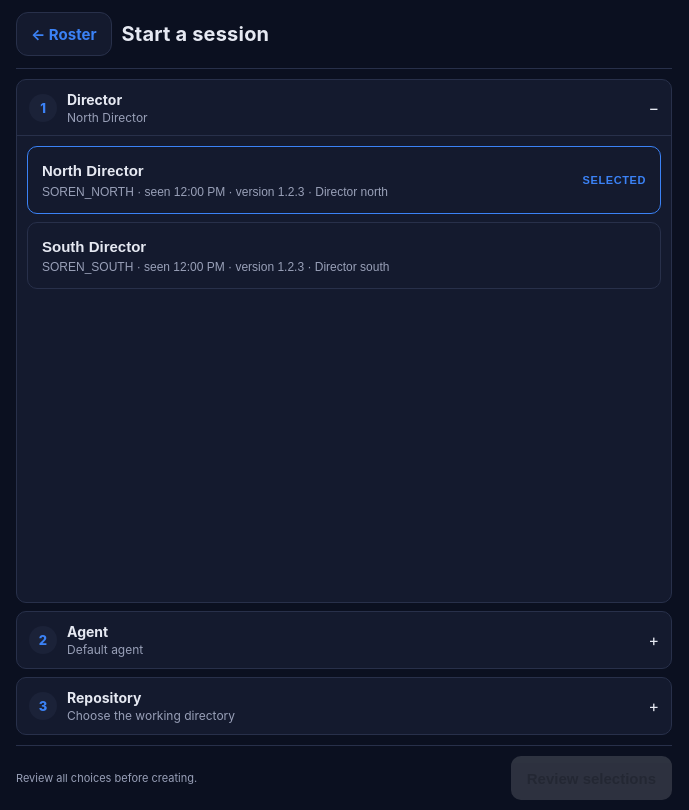
mobile new session › keeps case-distinct Unix repository paths as separate choices
The width and height of the screenshot is (689, 810).
Click the button with aria-label "Select Director North Director": (93, 170) [28, 147, 660, 212]
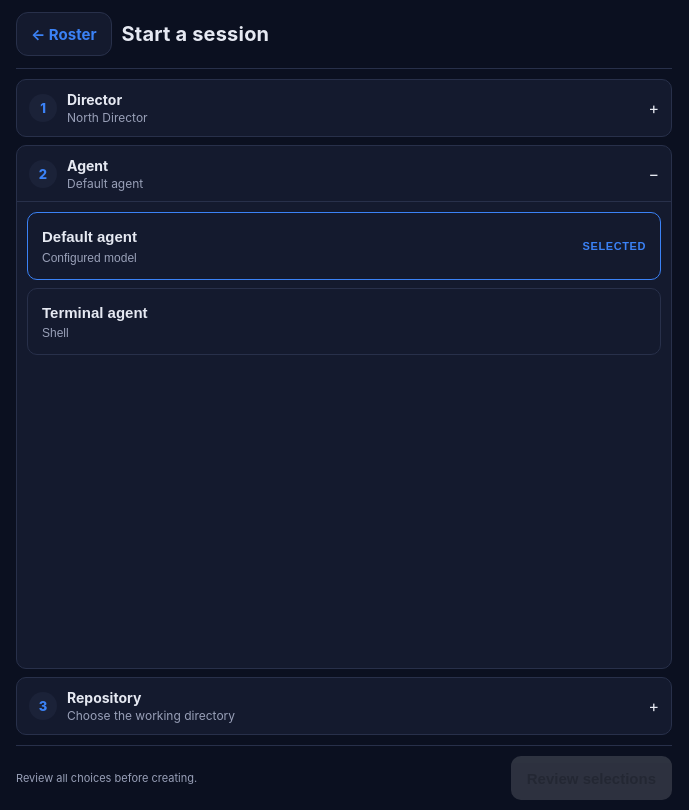
Click the button with aria-label "Select agent Terminal agent": (95, 312) [28, 288, 660, 354]
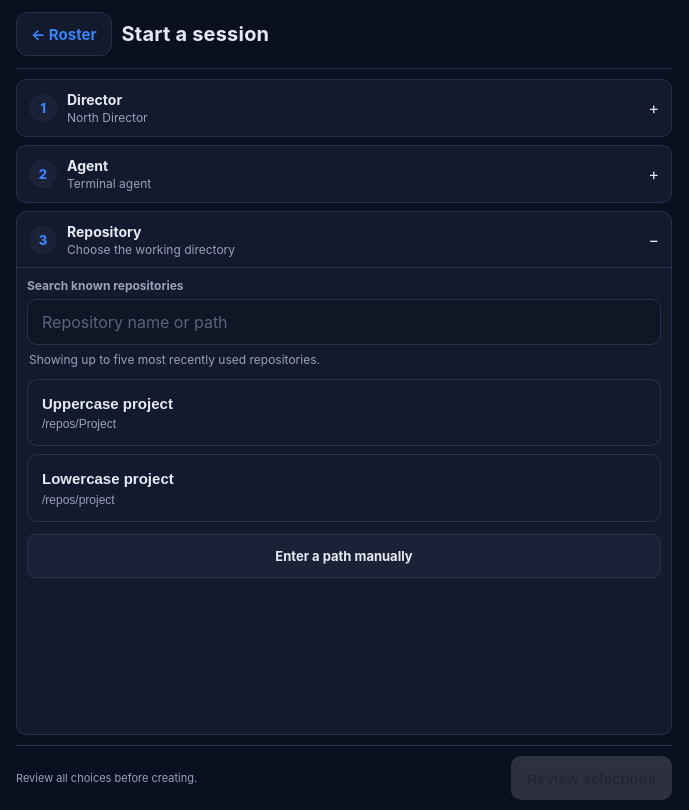
Result: the search field labelled "Search known repositories" is shown at [27, 299, 661, 345]
Result: the button with aria-label "Select repository Uppercase project" is shown at [28, 380, 660, 445]
Result: the button with aria-label "Select repository Lowercase project" is shown at [28, 455, 660, 521]
